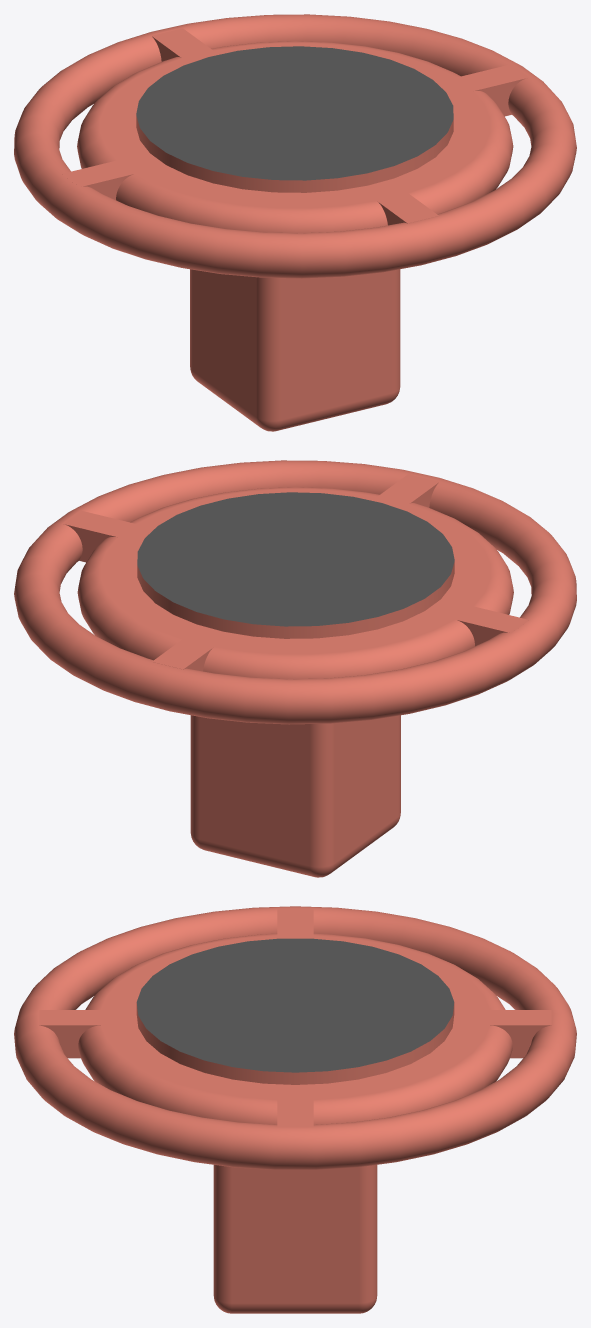
The model's file is red_object.dae.
3 views of the same model, one above another, from view 1: azimuth 30°, elevation 25°; view 2: azimuth 150°, elevation 25°; view 3: azimuth 270°, elevation 25° (orthographic).
Visible parts, largest first — view 1: objects_all v3.004; view 2: objects_all v3.004; view 3: objects_all v3.004.
Part boxes in pixels (bbox=[...]): objects_all v3.004: bbox=[14, 14, 576, 431]; objects_all v3.004: bbox=[14, 460, 576, 877]; objects_all v3.004: bbox=[14, 906, 576, 1313].
Bounding box in the file's own units: 0.0619 × 0.062 × 0.034.
